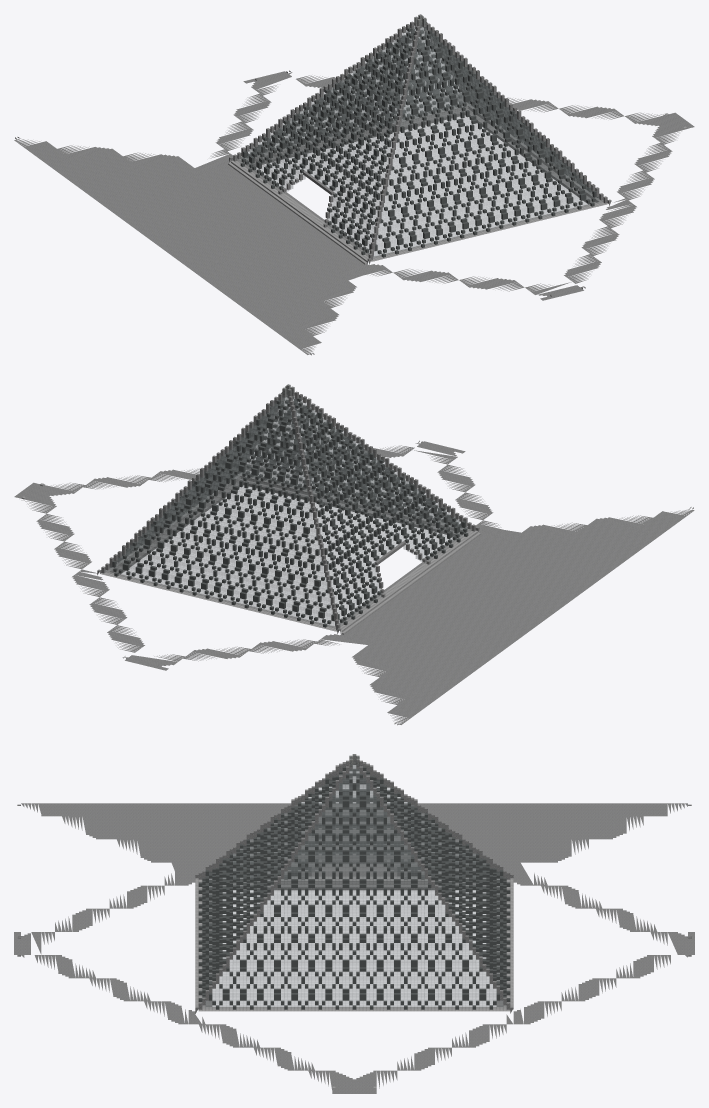
File: newheaven-courtyard.glb
3 renders of one model, top to bottom at view 1: azimuth 30°, elevation 25°; view 2: azimuth 150°, elevation 25°; view 3: azimuth 270°, elevation 25°, orthographic. The views are drawn at different scales.
Parts seen in each view (by area): view 1: minecraft_block-andesite, minecraft_block-cyan_terracotta, minecraft_block-light_gray_stained_glass, minecraft_block-smooth_stone; view 2: minecraft_block-andesite, minecraft_block-cyan_terracotta, minecraft_block-light_gray_stained_glass, minecraft_block-smooth_stone; view 3: minecraft_block-andesite, minecraft_block-cyan_terracotta, minecraft_block-light_gray_stained_glass, minecraft_block-smooth_stone.
Part boxes in pixels (x1,y1,x2,y2): minecraft_block-andesite: (14, 21, 694, 354); minecraft_block-cyan_terracotta: (240, 26, 598, 257); minecraft_block-light_gray_stained_glass: (237, 24, 603, 257); minecraft_block-smooth_stone: (228, 102, 686, 263); minecraft_block-andesite: (14, 391, 694, 724); minecraft_block-cyan_terracotta: (110, 396, 468, 627); minecraft_block-light_gray_stained_glass: (105, 394, 471, 627); minecraft_block-smooth_stone: (22, 472, 480, 633); minecraft_block-andesite: (14, 760, 694, 1093); minecraft_block-cyan_terracotta: (198, 766, 510, 1009); minecraft_block-light_gray_stained_glass: (203, 765, 505, 1007); minecraft_block-smooth_stone: (195, 876, 513, 1087).
Bounding box in the file's own units: 80.4 × 25.2 × 79.6.
Materials: 6 (6 with a texture image).
